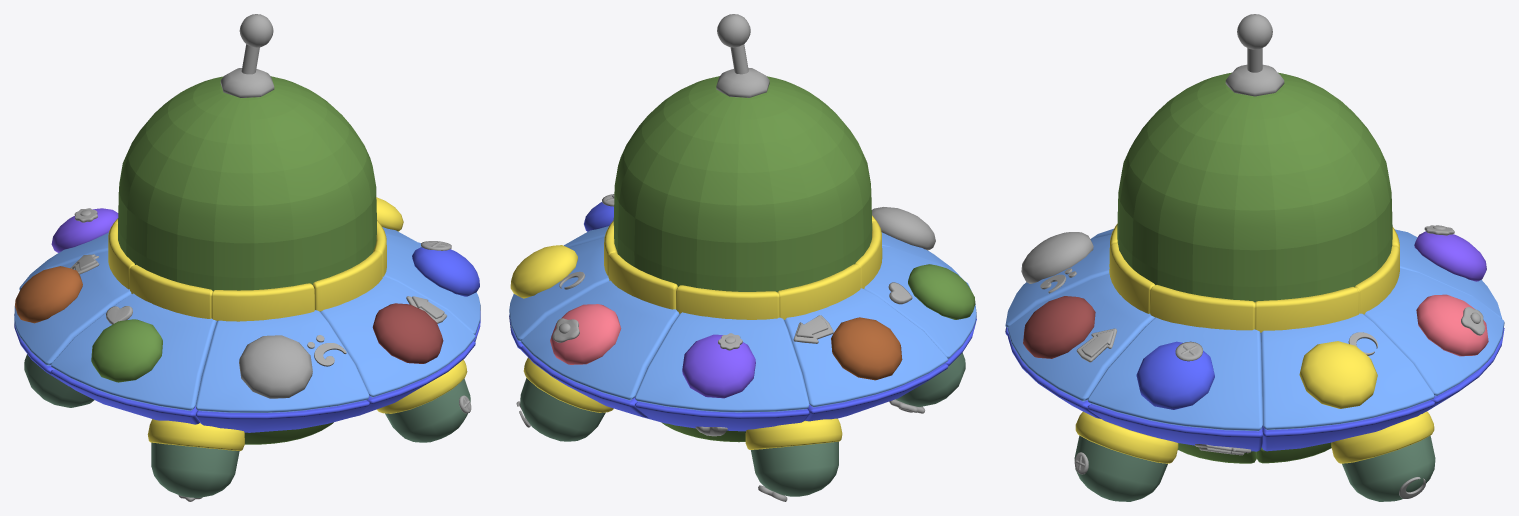
Rendered from AlienBuddy.fbx.
The picture shows the model from 3 angles, left to right: view 1: azimuth 30°, elevation 25°; view 2: azimuth 150°, elevation 25°; view 3: azimuth 270°, elevation 25°; orthographic projection. The views are drawn at different scales.
Parts seen in each view (by area): view 1: M_AlienBuddy, S_AlienBuddy, D1_AlienBuddy_14, D1_AlienBuddy_15, D1_AlienBuddy_115, D1_AlienBuddy_116, D1_AlienBuddy_13, D1_AlienBuddy_16, D_AlienBuddy_, D1_AlienBuddy_114, D1_AlienBuddy_117, D_AlienBuddy_1 (+30 smaller); view 2: M_AlienBuddy, S_AlienBuddy, D_AlienBuddy_ (×2), D1_AlienBuddy_8, D1_AlienBuddy_7, D1_AlienBuddy_109, D1_AlienBuddy_108, D1_AlienBuddy_9, D1_AlienBuddy_6, D1_AlienBuddy_110, D1_AlienBuddy_107, D_AlienBuddy_1 (+32 smaller); view 3: M_AlienBuddy, S_AlienBuddy, D1_AlienBuddy_21, D1_AlienBuddy_122, D1_AlienBuddy_20, D1_AlienBuddy_2, D1_AlienBuddy_104, D1_AlienBuddy_121, D1_AlienBuddy_19, D1_AlienBuddy_3, D_AlienBuddy_, D_AlienBuddy_1 (+34 smaller).
Part boxes in pixels (bbox=[...]): M_AlienBuddy: bbox=[14, 197, 480, 497]; S_AlienBuddy: bbox=[108, 218, 467, 450]; D1_AlienBuddy_14: bbox=[214, 204, 254, 243]; D1_AlienBuddy_15: bbox=[253, 202, 293, 243]; D1_AlienBuddy_115: bbox=[214, 241, 254, 277]; D1_AlienBuddy_116: bbox=[254, 240, 293, 277]; D1_AlienBuddy_13: bbox=[177, 198, 216, 241]; D1_AlienBuddy_16: bbox=[290, 195, 328, 239]; D_AlienBuddy_: bbox=[239, 14, 273, 74]; D1_AlienBuddy_114: bbox=[177, 234, 213, 275]; D1_AlienBuddy_117: bbox=[293, 231, 328, 274]; D_AlienBuddy_1: bbox=[220, 68, 274, 97]; M_AlienBuddy: bbox=[509, 202, 976, 496]; S_AlienBuddy: bbox=[523, 215, 882, 449]; D_AlienBuddy_ (×2): bbox=[552, 14, 750, 342]; D1_AlienBuddy_8: bbox=[736, 204, 776, 242]; D1_AlienBuddy_7: bbox=[697, 202, 736, 242]; D1_AlienBuddy_109: bbox=[736, 241, 776, 277]; D1_AlienBuddy_108: bbox=[696, 239, 736, 277]; D1_AlienBuddy_9: bbox=[774, 197, 812, 240]; D1_AlienBuddy_6: bbox=[662, 194, 700, 239]; D1_AlienBuddy_110: bbox=[776, 234, 813, 275]; D1_AlienBuddy_107: bbox=[661, 231, 696, 273]; D_AlienBuddy_1: bbox=[716, 68, 769, 97]; M_AlienBuddy: bbox=[1005, 228, 1504, 501]; S_AlienBuddy: bbox=[1075, 223, 1434, 463]; D1_AlienBuddy_21: bbox=[1233, 210, 1276, 250]; D1_AlienBuddy_122: bbox=[1233, 249, 1276, 286]; D1_AlienBuddy_20: bbox=[1193, 205, 1234, 249]; D1_AlienBuddy_2: bbox=[1275, 205, 1316, 249]; D1_AlienBuddy_104: bbox=[1276, 244, 1317, 286]; D1_AlienBuddy_121: bbox=[1192, 244, 1233, 286]; D1_AlienBuddy_19: bbox=[1158, 195, 1197, 243]; D1_AlienBuddy_3: bbox=[1312, 195, 1351, 243]; D_AlienBuddy_: bbox=[1237, 14, 1272, 72]; D_AlienBuddy_1: bbox=[1225, 64, 1284, 96].
Size of the model in its own units: 753 by 725 by 753.
